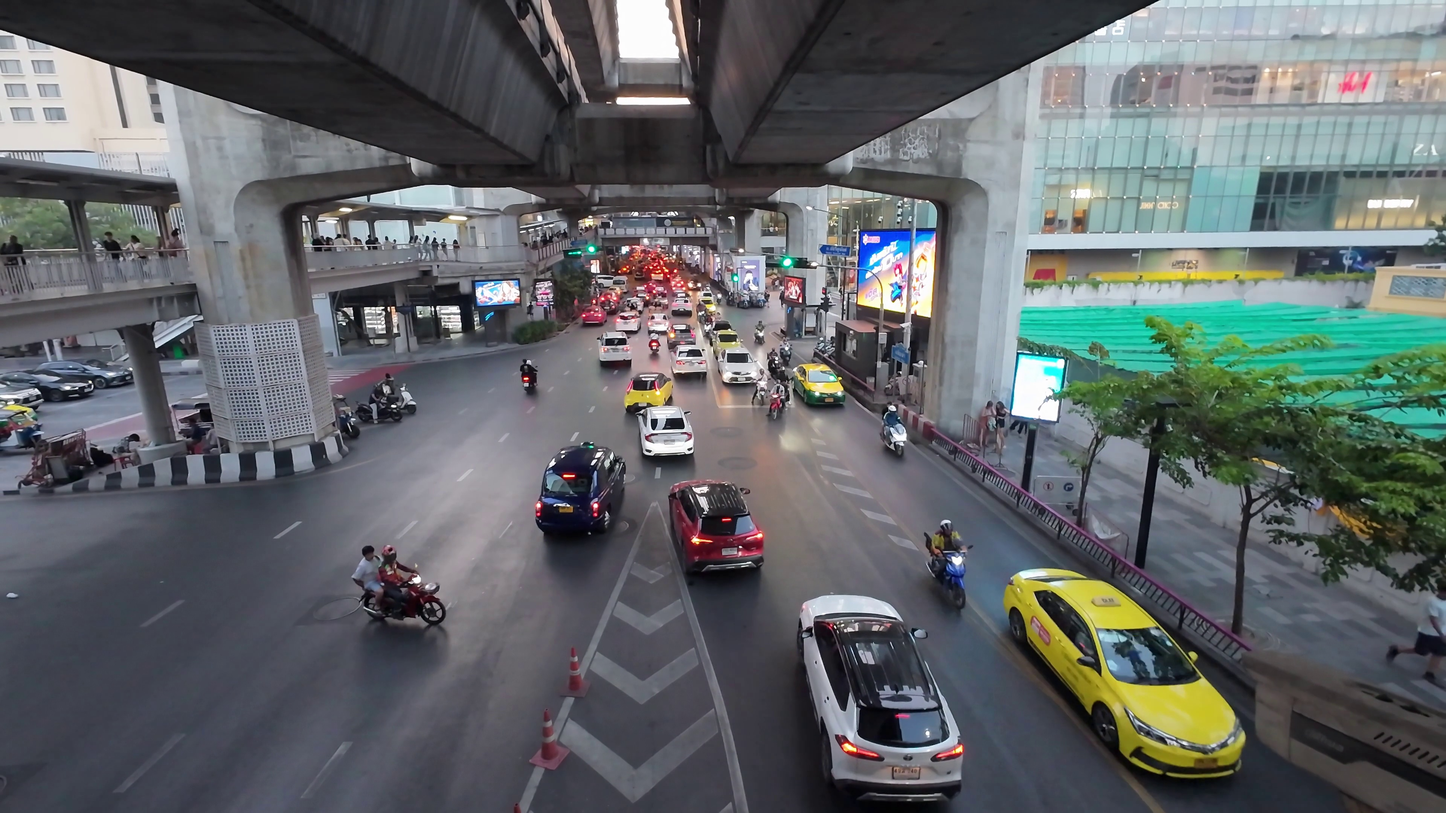license_plate: (1063, 696, 1187, 765), (1062, 696, 1185, 765), (839, 719, 924, 787), (690, 538, 741, 569), (556, 498, 603, 529), (376, 605, 423, 626), (652, 440, 681, 458), (808, 388, 833, 403), (935, 593, 957, 610), (374, 410, 402, 422), (607, 352, 625, 364), (887, 443, 901, 456), (607, 346, 625, 355)
motorcycle: (353, 547, 446, 630), (923, 546, 969, 614), (359, 378, 417, 424), (880, 404, 908, 459)
no_seatbelt: (1037, 598, 1210, 706), (1039, 599, 1211, 707), (822, 624, 940, 729), (680, 495, 750, 543), (547, 454, 612, 503), (646, 414, 687, 443), (802, 366, 839, 390), (603, 335, 629, 354), (603, 332, 628, 347)
